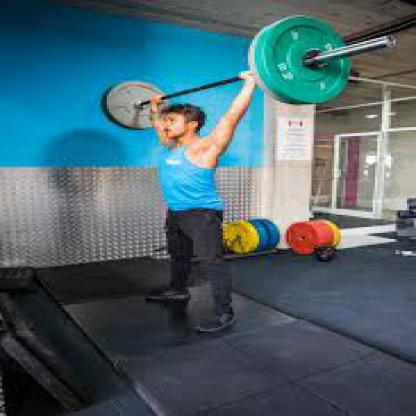Barbell: (246, 10, 365, 113)
